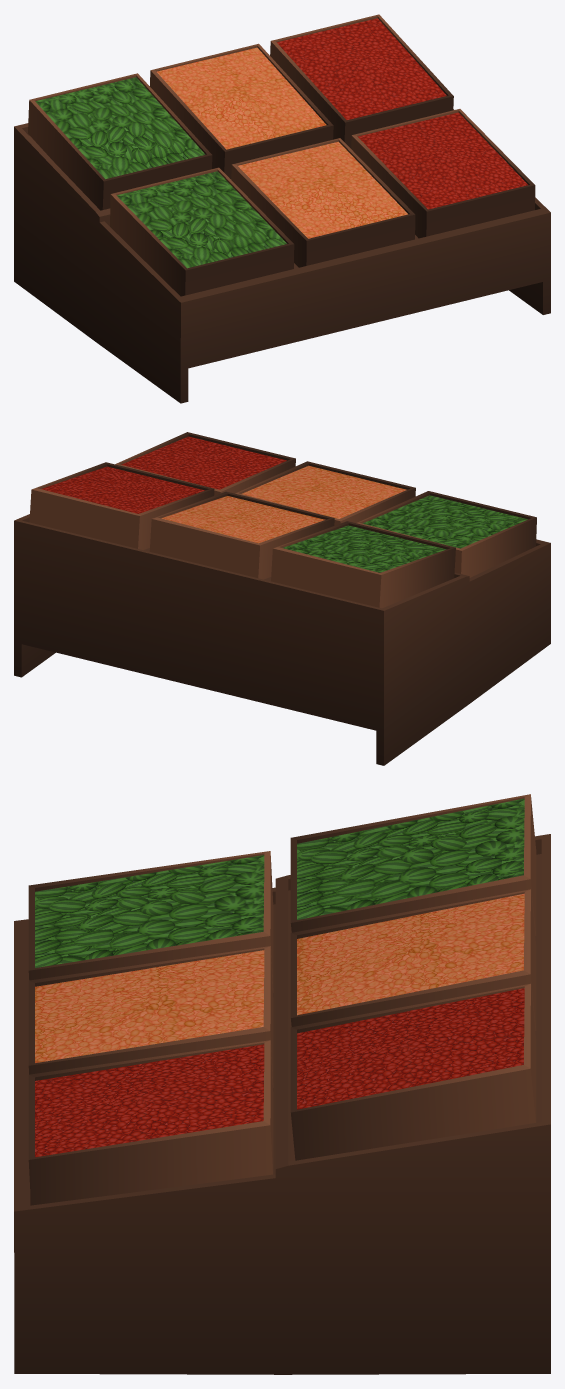
Rendered from MejaJualan4.fbx.
3 views of the same model, one above another, from view 1: azimuth 30°, elevation 25°; view 2: azimuth 150°, elevation 25°; view 3: azimuth 270°, elevation 25° (orthographic). The views are drawn at different scales.
Parts seen in each view (by area): view 1: Meja, JerukObject1_LOD0, SemangkaObject1_LOD0, AppleObject1_LOD0, AppleObject2_LOD0, SemangkaObject2_LOD0, JerukObject2_LOD0, StallKiri2_LOD0, StallKiri1_LOD0, StallTengah2_LOD0, StallKanan2_LOD0, StallTengah1_LOD0 (+1 smaller); view 2: Meja, StallKiri1_LOD0, StallTengah1_LOD0, StallKanan1_LOD0, SemangkaObject2_LOD0, AppleObject2_LOD0, JerukObject2_LOD0, AppleObject1_LOD0, SemangkaObject1_LOD0, JerukObject1_LOD0, StallKiri2_LOD0, StallTengah2_LOD0 (+1 smaller); view 3: Meja, AppleObject2_LOD0, JerukObject2_LOD0, SemangkaObject2_LOD0, SemangkaObject1_LOD0, JerukObject1_LOD0, AppleObject1_LOD0, StallKanan1_LOD0, StallKanan2_LOD0, StallKiri1_LOD0, StallTengah1_LOD0, StallKiri2_LOD0 (+1 smaller).
Boxes of the visible parts, <box> form: Meja: <box>14,109,550,403</box>; JerukObject1_LOD0: <box>156,47,326,149</box>; SemangkaObject1_LOD0: <box>35,77,205,179</box>; AppleObject1_LOD0: <box>277,18,446,119</box>; AppleObject2_LOD0: <box>358,112,527,209</box>; SemangkaObject2_LOD0: <box>117,171,286,268</box>; JerukObject2_LOD0: <box>238,141,407,238</box>; StallKiri2_LOD0: <box>110,167,294,296</box>; StallKiri1_LOD0: <box>28,73,212,210</box>; StallTengah2_LOD0: <box>231,138,415,267</box>; StallKanan2_LOD0: <box>351,109,535,238</box>; StallTengah1_LOD0: <box>150,43,333,178</box>; Meja: <box>14,514,550,765</box>; StallKiri1_LOD0: <box>271,521,455,608</box>; StallTengah1_LOD0: <box>149,491,334,579</box>; StallKanan1_LOD0: <box>29,462,214,550</box>; SemangkaObject2_LOD0: <box>363,495,527,548</box>; AppleObject2_LOD0: <box>121,436,286,489</box>; JerukObject2_LOD0: <box>242,465,406,518</box>; AppleObject1_LOD0: <box>41,466,204,513</box>; SemangkaObject1_LOD0: <box>283,525,446,572</box>; JerukObject1_LOD0: <box>161,496,325,543</box>; StallKiri2_LOD0: <box>356,491,536,577</box>; StallTengah2_LOD0: <box>235,461,415,525</box>; Meja: <box>14,834,550,1374</box>; AppleObject2_LOD0: <box>35,1044,264,1157</box>; JerukObject2_LOD0: <box>35,950,264,1062</box>; SemangkaObject2_LOD0: <box>35,855,264,967</box>; SemangkaObject1_LOD0: <box>297,798,524,919</box>; JerukObject1_LOD0: <box>297,893,524,1015</box>; AppleObject1_LOD0: <box>297,988,524,1109</box>; StallKanan1_LOD0: <box>290,983,536,1160</box>; StallKanan2_LOD0: <box>28,1040,273,1205</box>; StallKiri1_LOD0: <box>290,794,536,935</box>; StallTengah1_LOD0: <box>290,889,536,1030</box>; StallKiri2_LOD0: <box>28,851,273,992</box>.
Size of what is drawn, in the model's own units: 274 by 131 by 214.
